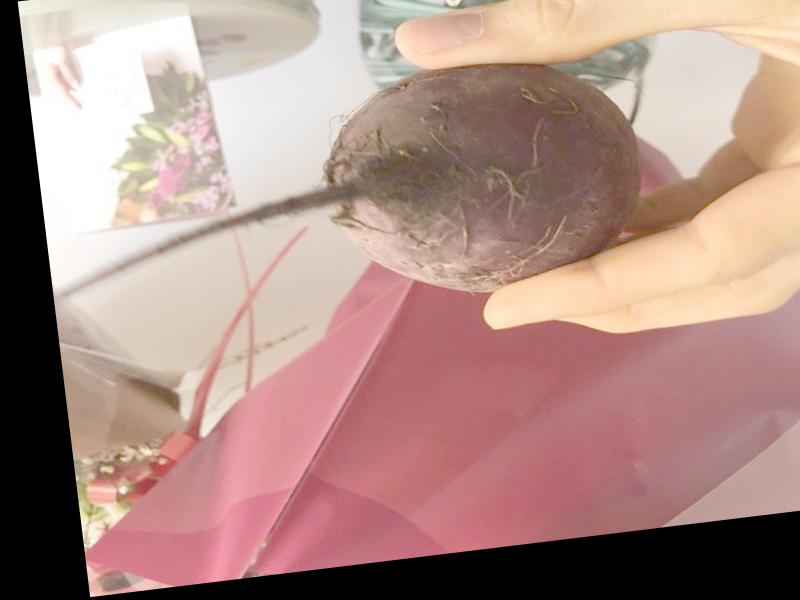Beet: (31, 44, 661, 343)
